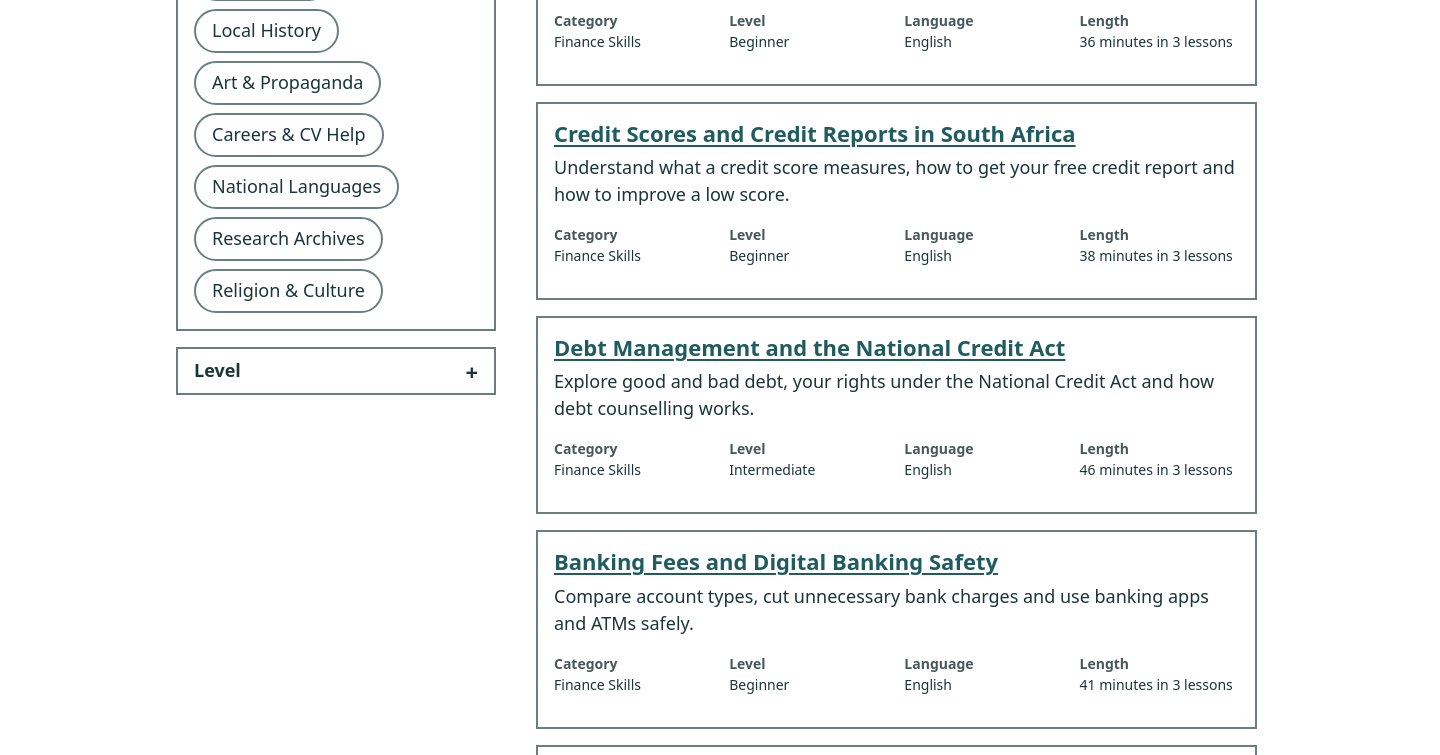
Test: filterable resource listing › exposes the accordion state with aria-expanded and toggles by click, Enter and Space
(page scrolled)
Click the button "Level": (217, 370) [178,349,494,393]
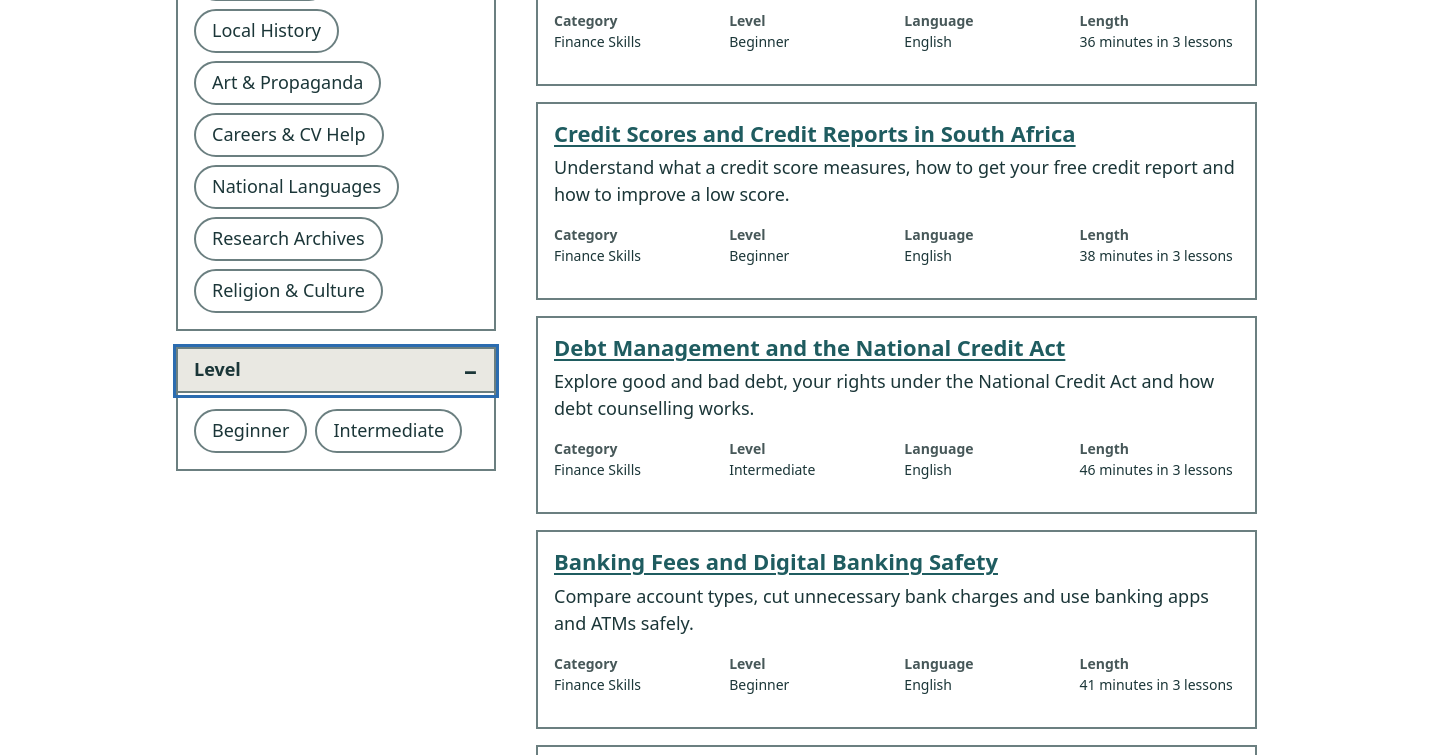
Result: the button "Level" is expanded at [178,349,494,393]
Press Enter
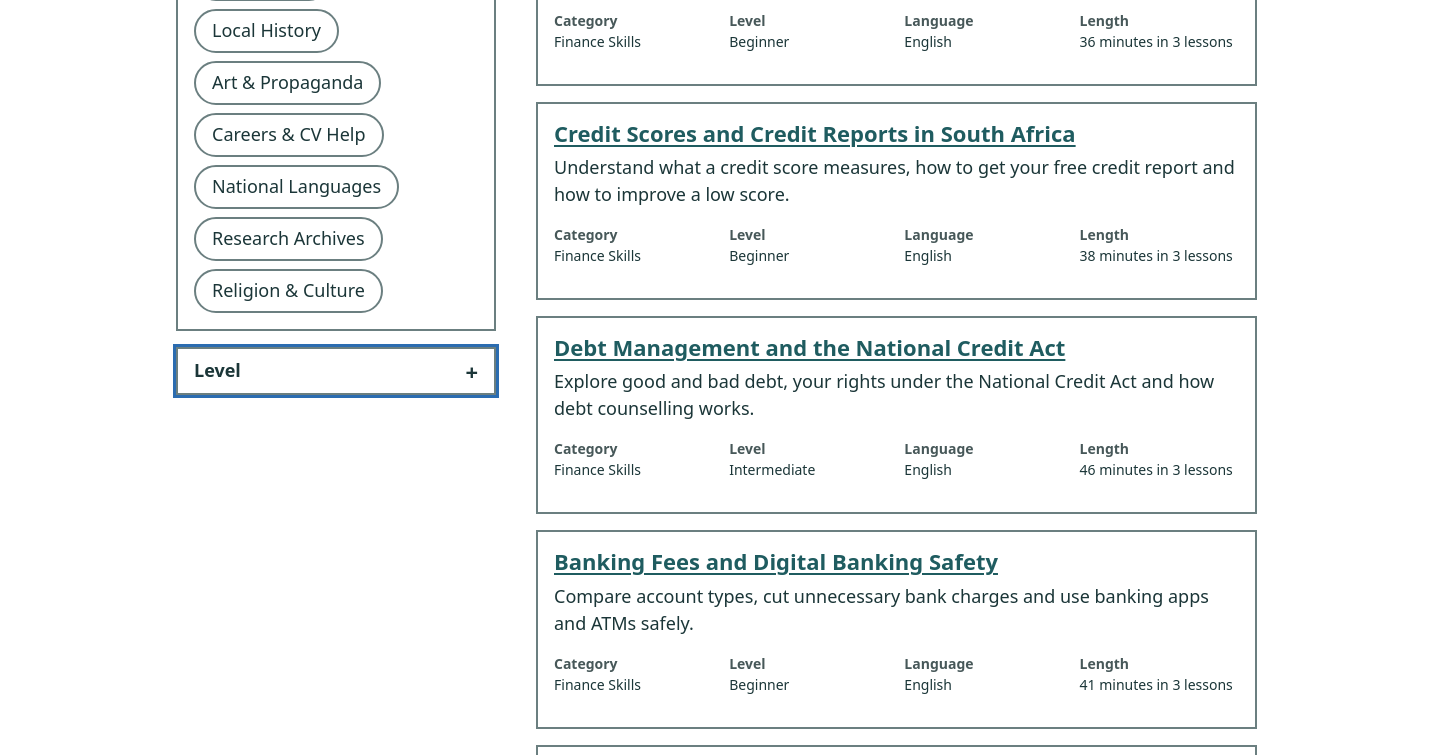
Result: the button "Level" is collapsed at [178,349,494,393]
Type keys " "
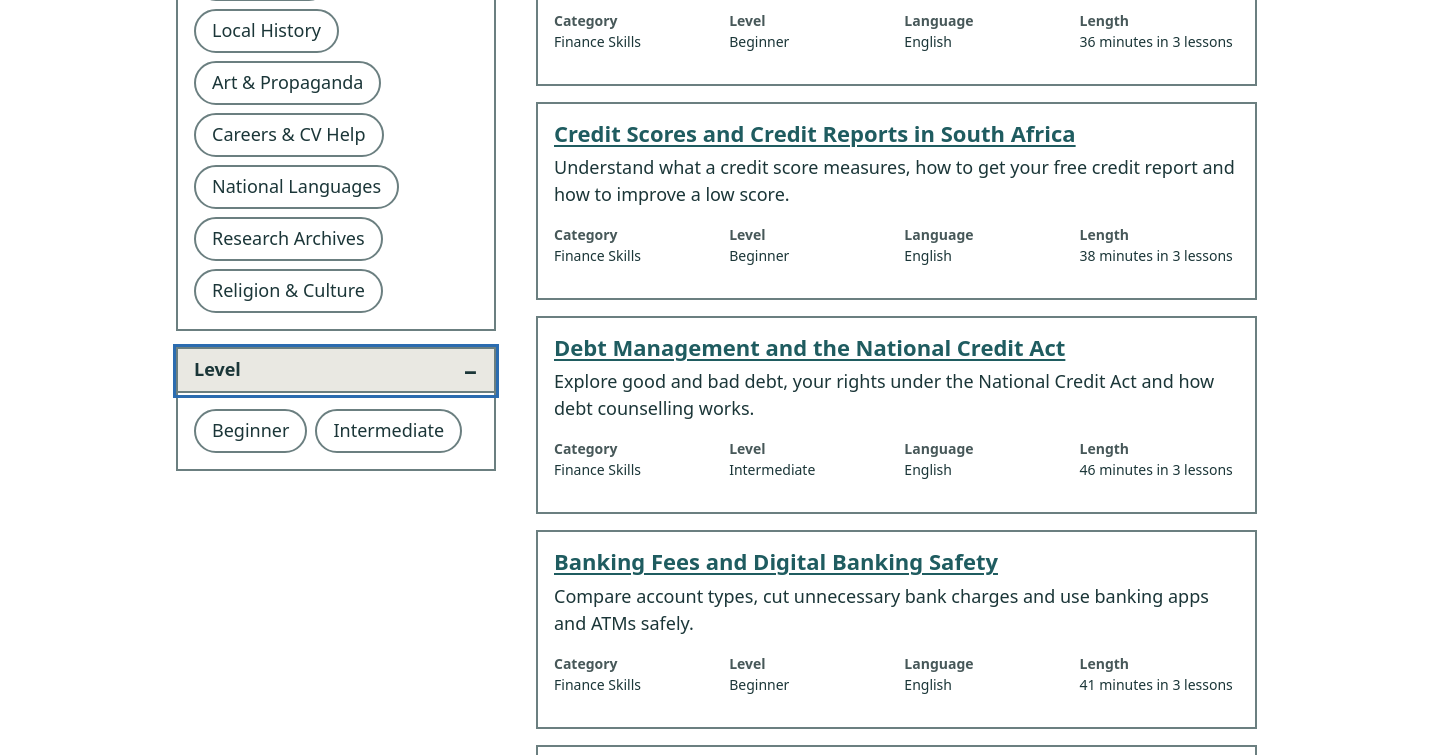
Result: the button "Level" is expanded at [178,349,494,393]
